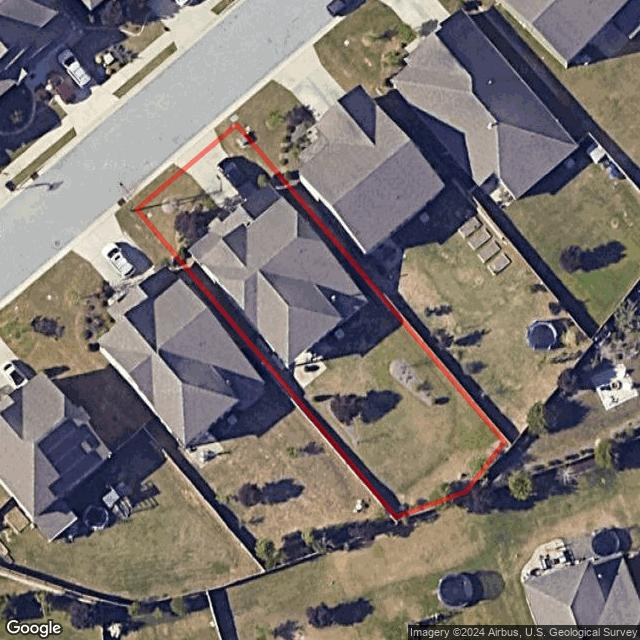Driveway: (184, 140, 261, 216)
Extra-Driveway: (168, 121, 219, 170)
Extra-Lawn: (130, 162, 184, 210), (214, 116, 237, 140)
House: (188, 198, 370, 369)
Lawn: (137, 125, 505, 517)
Other: (384, 353, 447, 412), (170, 207, 216, 267), (291, 353, 329, 389)
Sidewalk: (217, 210, 228, 221)
